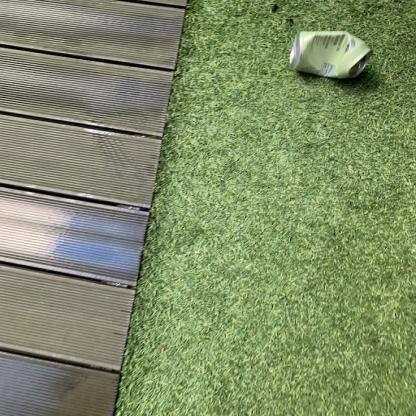trash: (284, 30, 378, 86)
